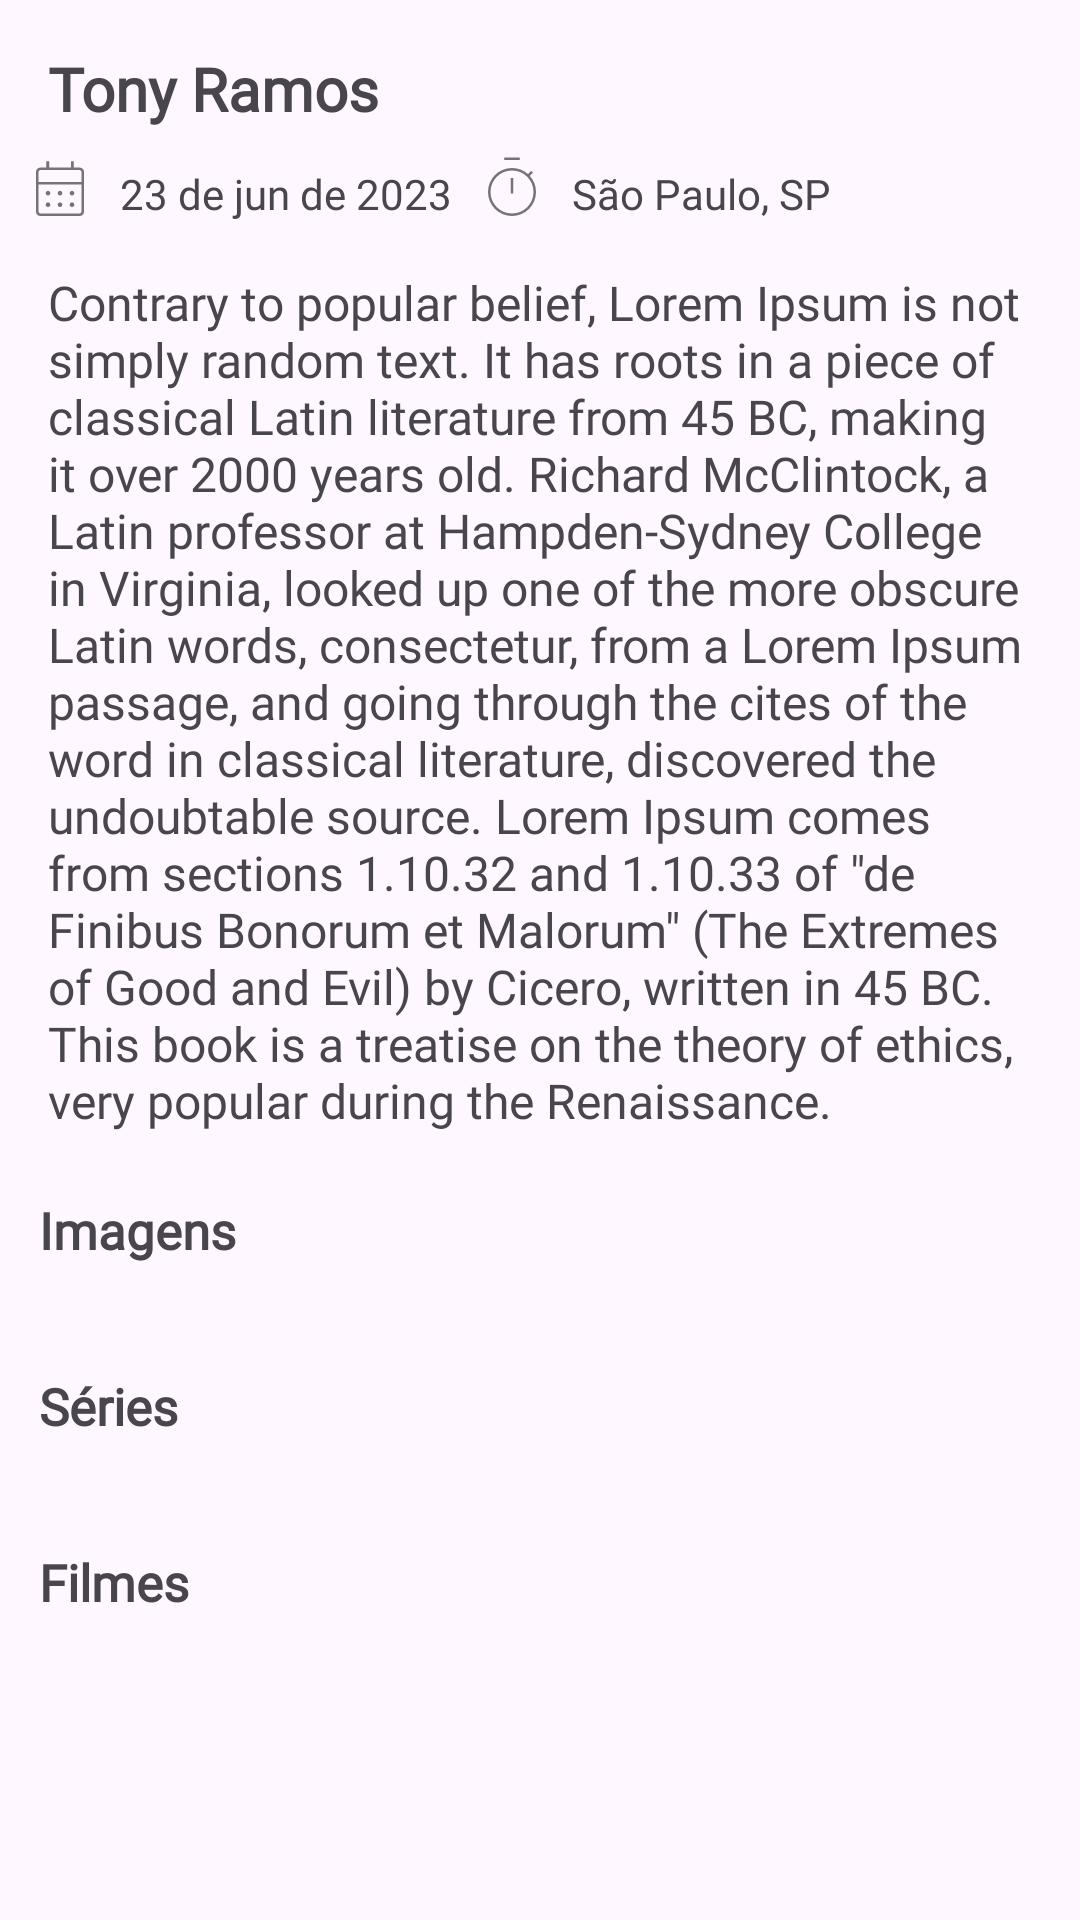

Named icons in this screenshot (1080 x 1920) and their bounding boxes, (x1, y1, x2, y2):
calendar: (36, 161, 84, 216)
timer: (488, 157, 536, 216)
